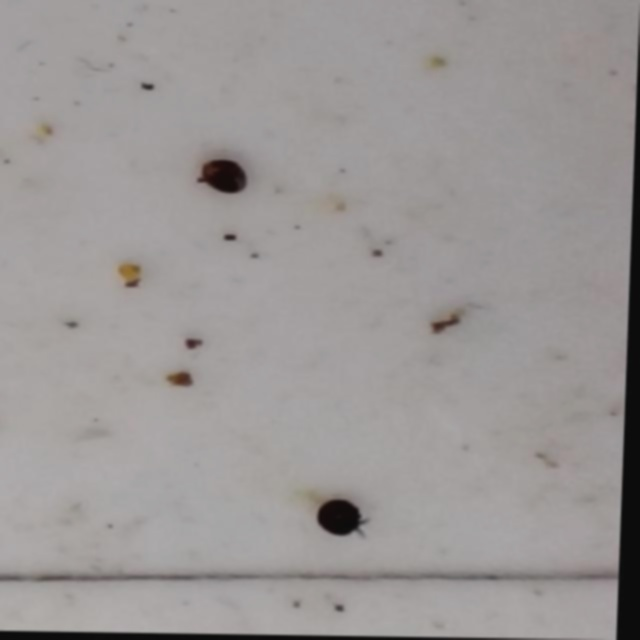varroa: (318, 500, 370, 541), (201, 161, 249, 197)
